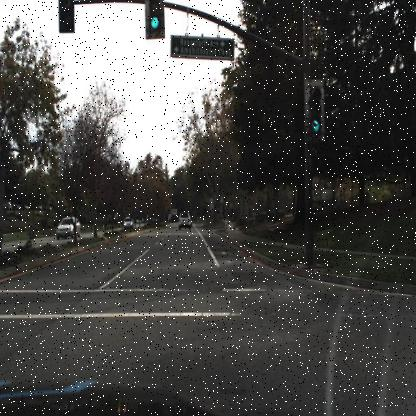car: (53, 214, 82, 238), (178, 210, 192, 230), (122, 216, 134, 231)
trafficLight: (302, 76, 326, 143)
